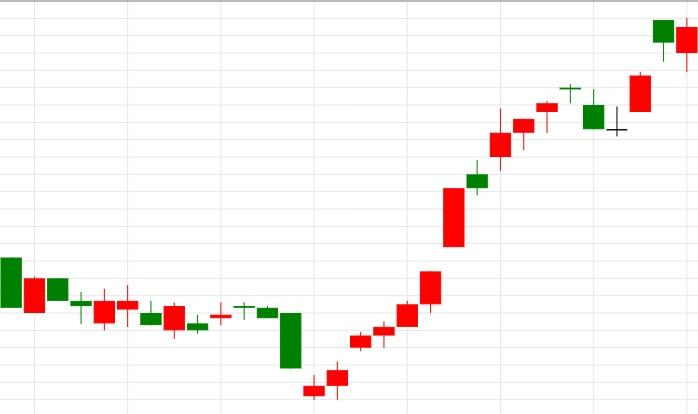evening_star_fall: (304, 83, 604, 400)
